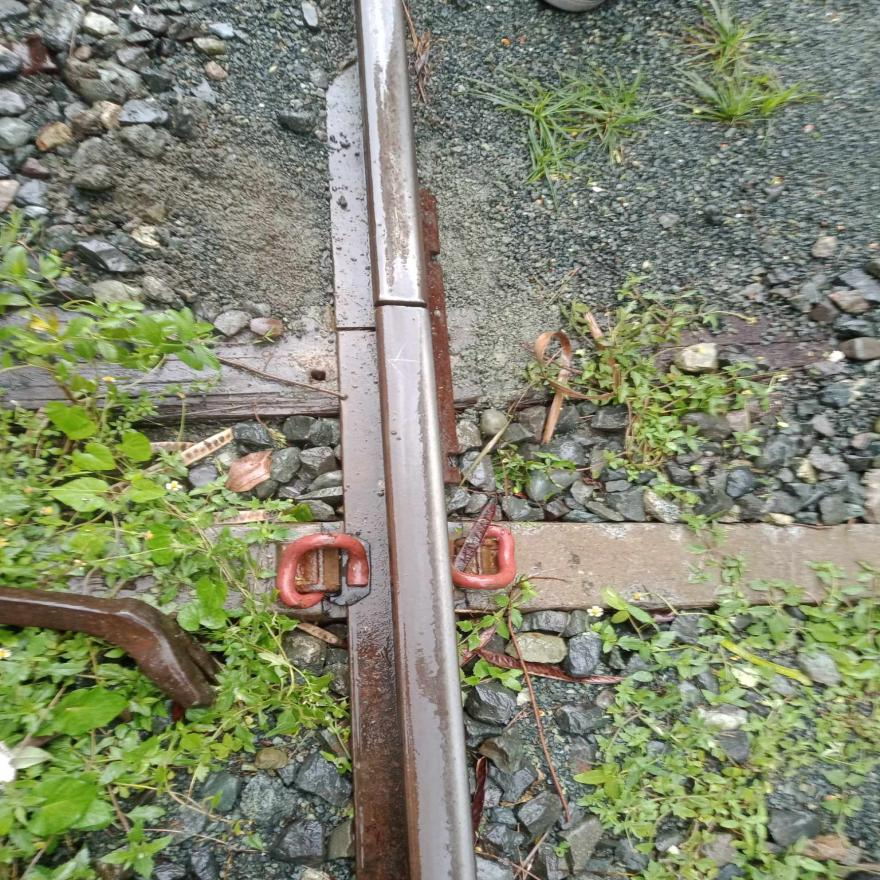railway-gap: (376, 275, 434, 336), (322, 302, 374, 352)
